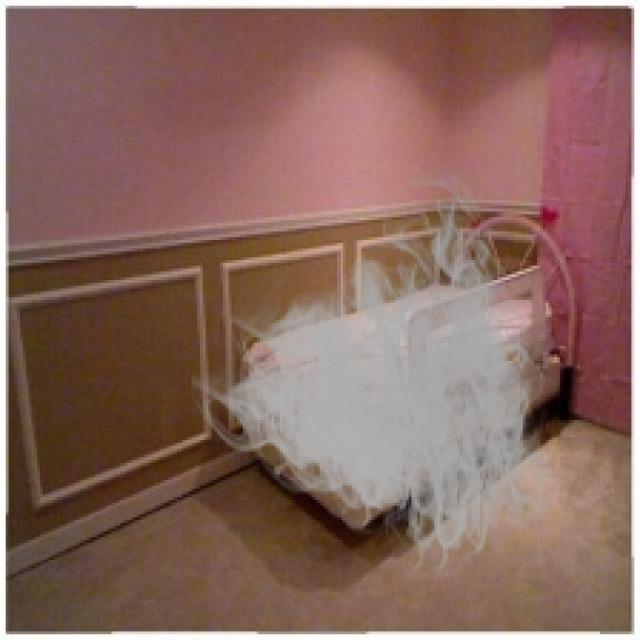smoke: (192, 163, 572, 588)
